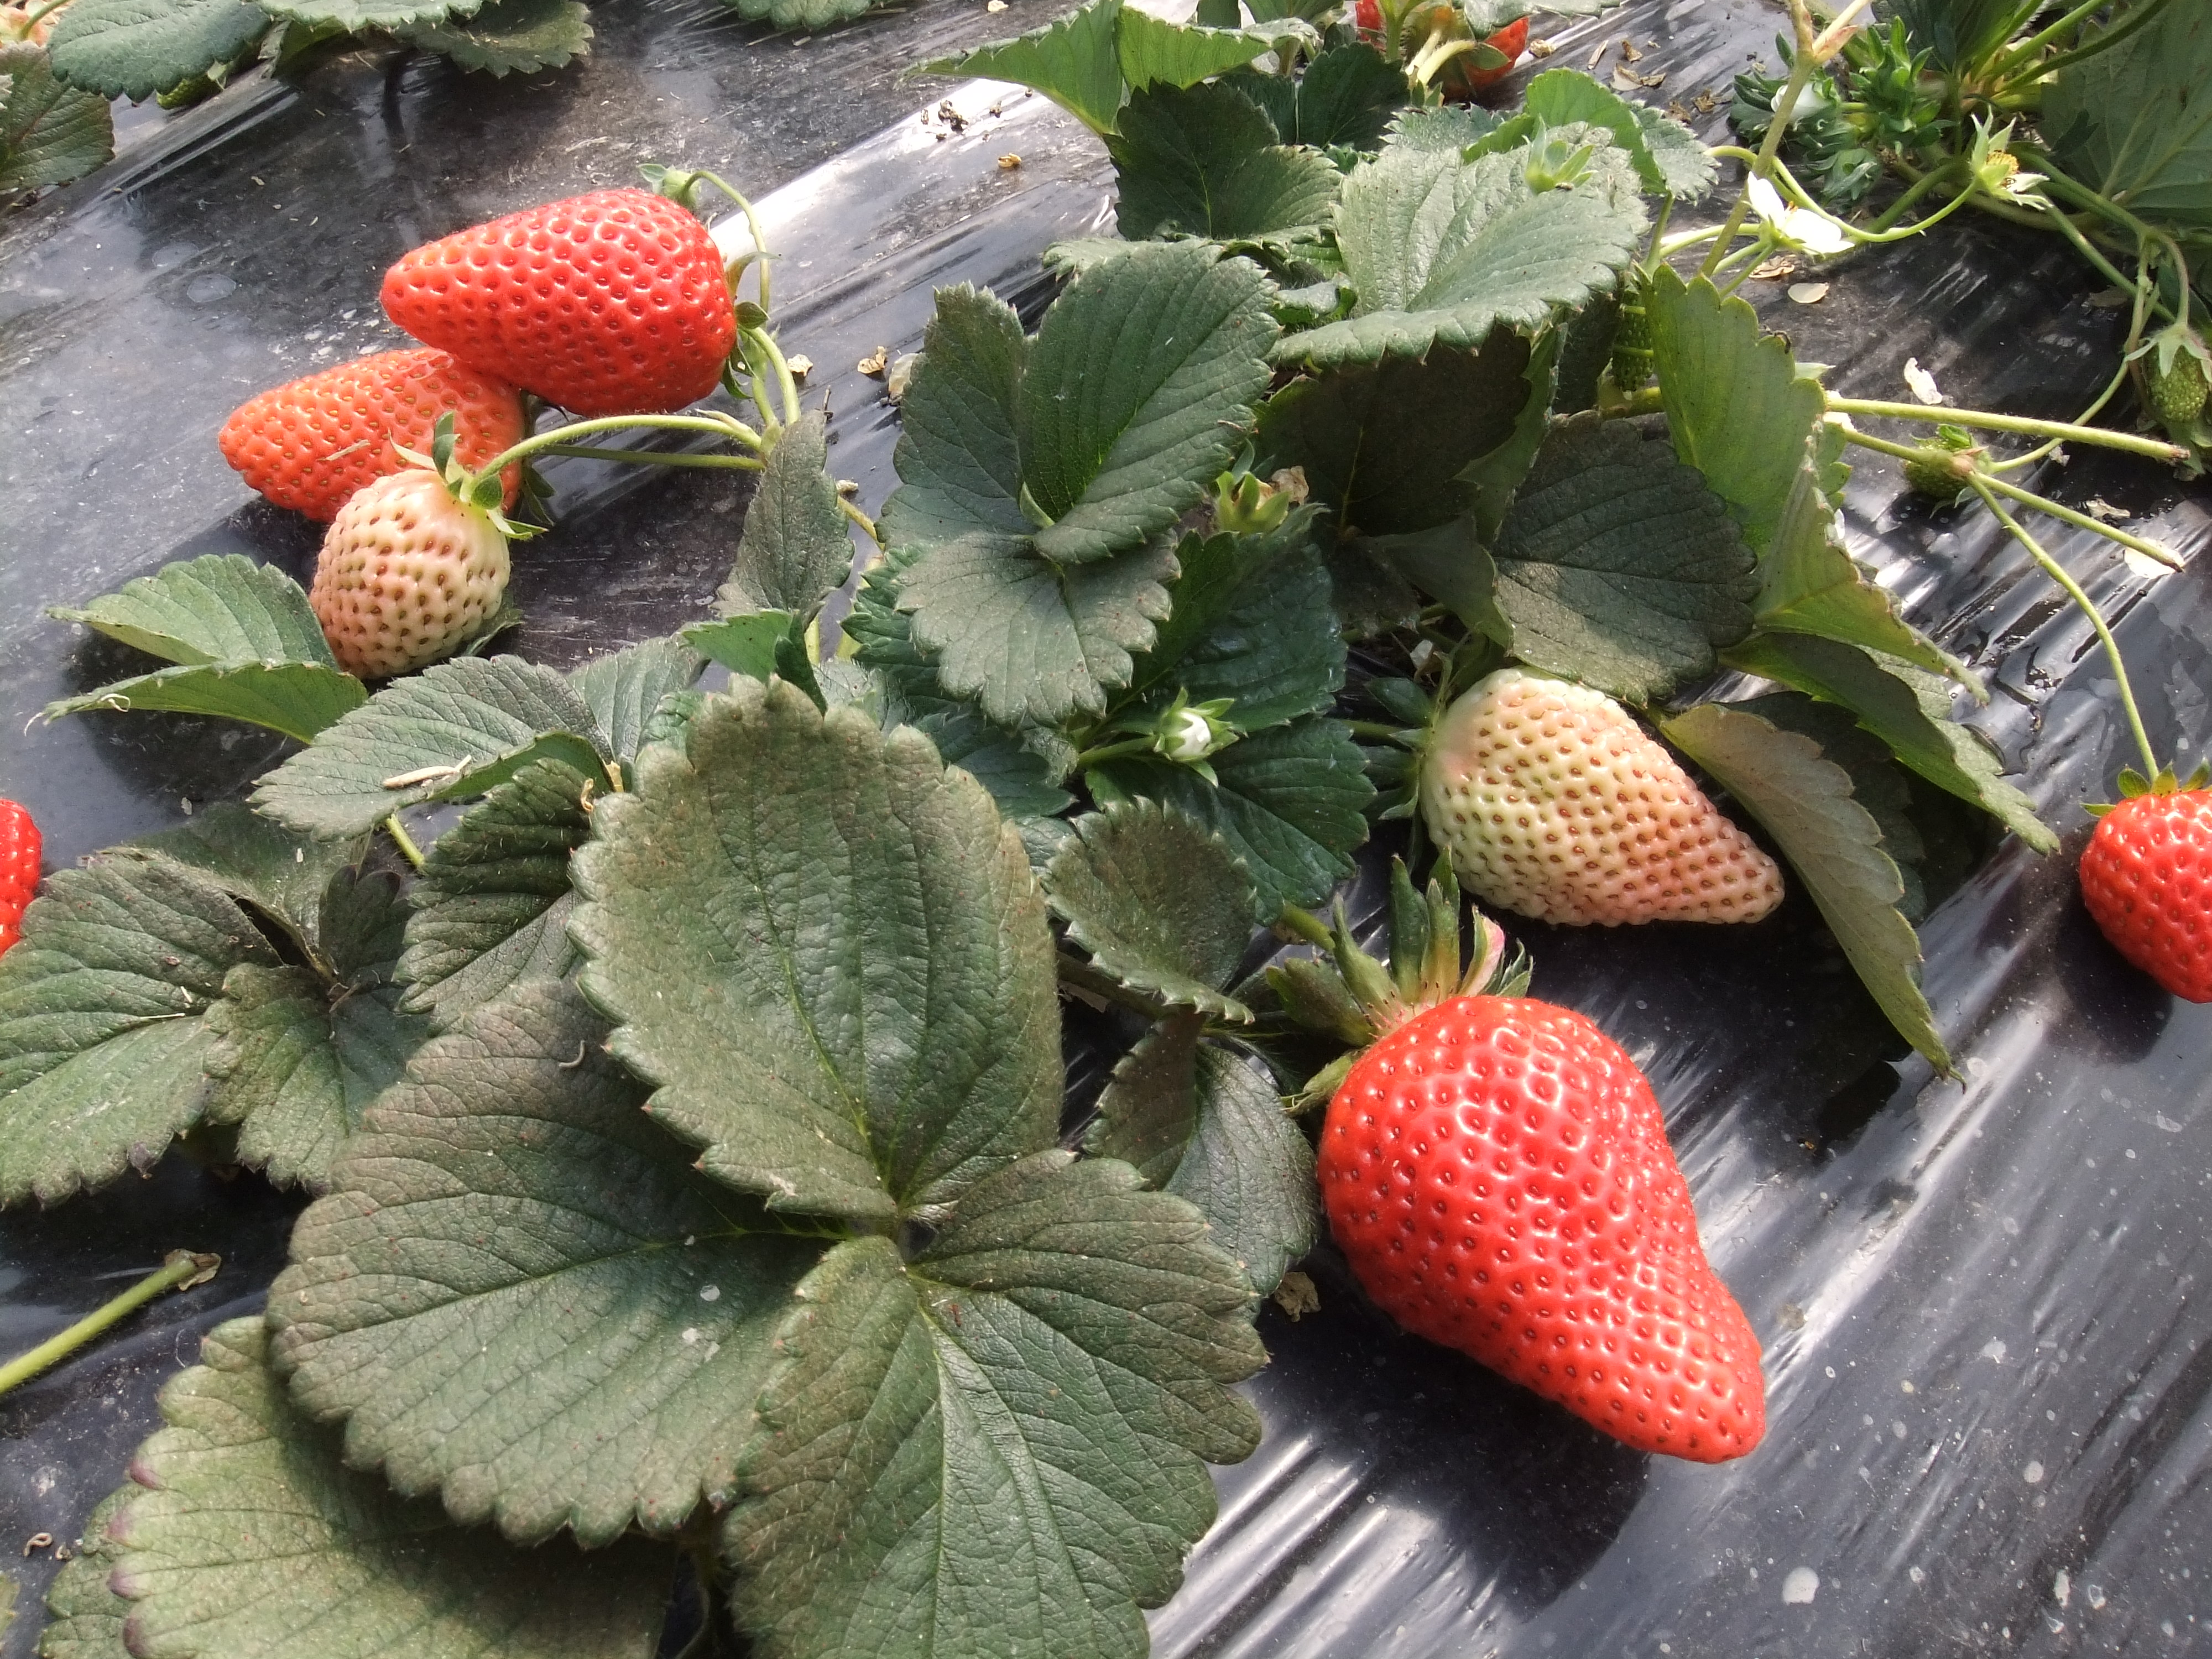StrawberryCone: (1305, 981, 1784, 1488), (343, 183, 754, 425), (2067, 753, 2209, 1028)
StrawberryIrremovable: (1411, 653, 1796, 932), (214, 347, 529, 511), (296, 464, 510, 664)
StrawberryRemovable: (1312, 985, 1773, 1481), (348, 185, 744, 423), (2074, 760, 2209, 1023)
